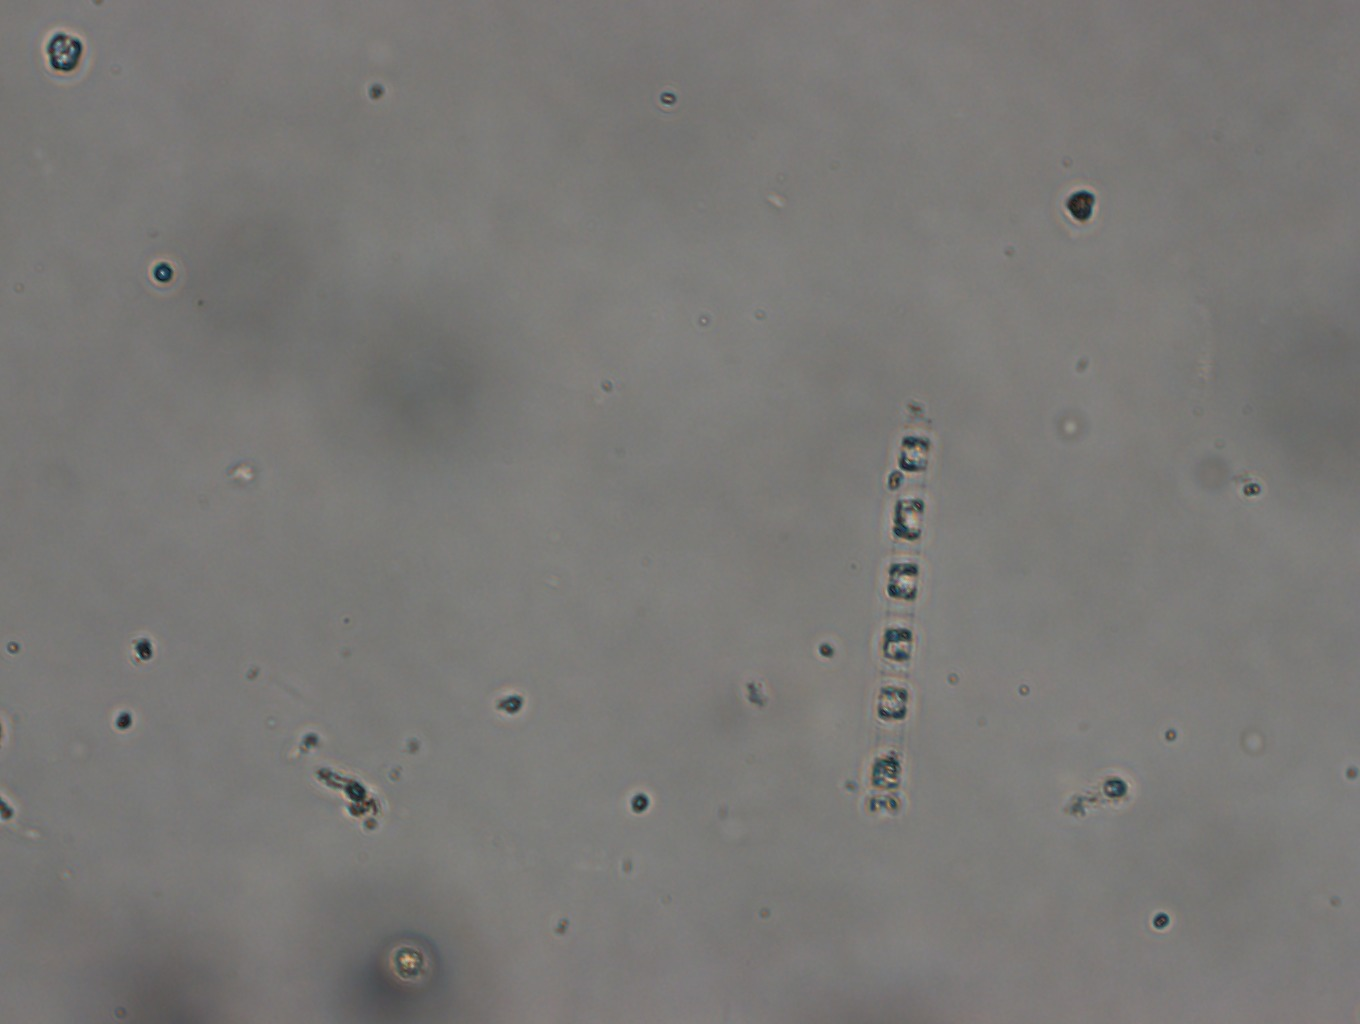skeletonema: (863, 414, 936, 809)
